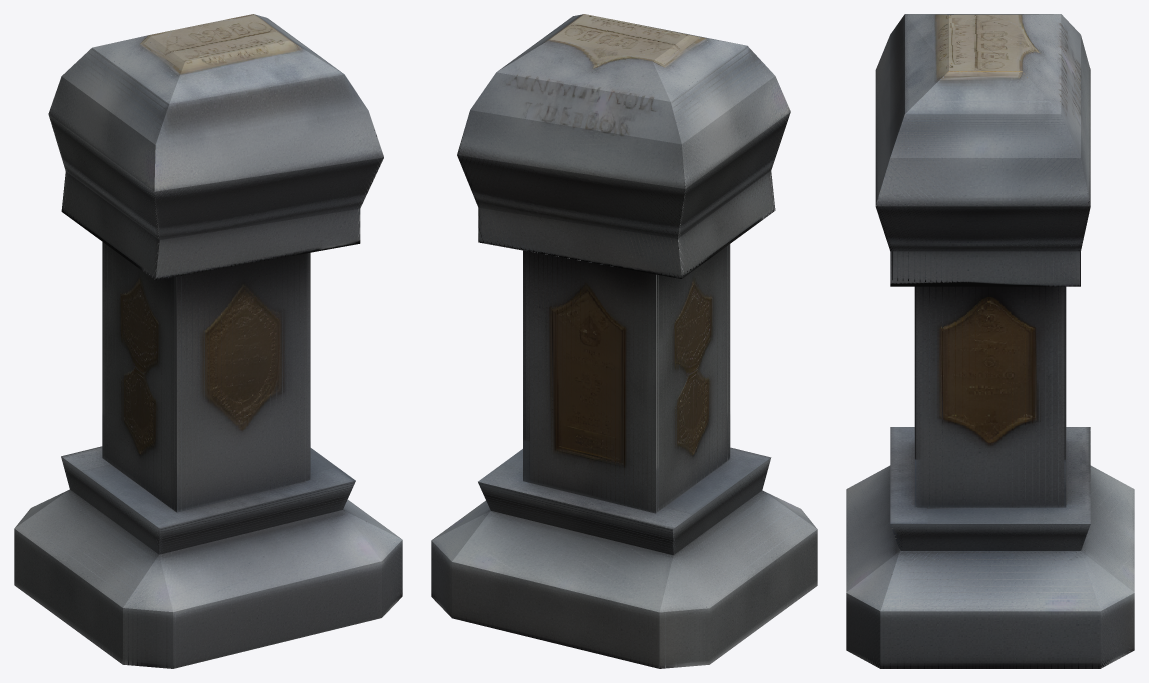
The picture shows the model from 3 angles, left to right: view 1: azimuth 30°, elevation 25°; view 2: azimuth 150°, elevation 25°; view 3: azimuth 270°, elevation 25°; orthographic projection. The views are drawn at different scales.
Parts seen in each view (by area): view 1: textured.obj; view 2: textured.obj; view 3: textured.obj.
Part boxes in pixels (x1,y1,x2,y2): textured.obj: (14,14,402,668); textured.obj: (431,14,817,668); textured.obj: (846,14,1134,668).
Size of the model in its own units: 1.06 by 2 by 0.9291.
Materials: 1 (1 with a texture image).
